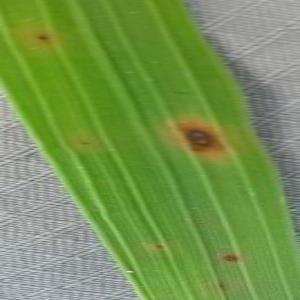Brown_Spot: (162, 110, 237, 169), (166, 84, 197, 99), (215, 250, 242, 265), (32, 30, 53, 44), (149, 240, 170, 254), (213, 280, 231, 294), (75, 136, 94, 149)
